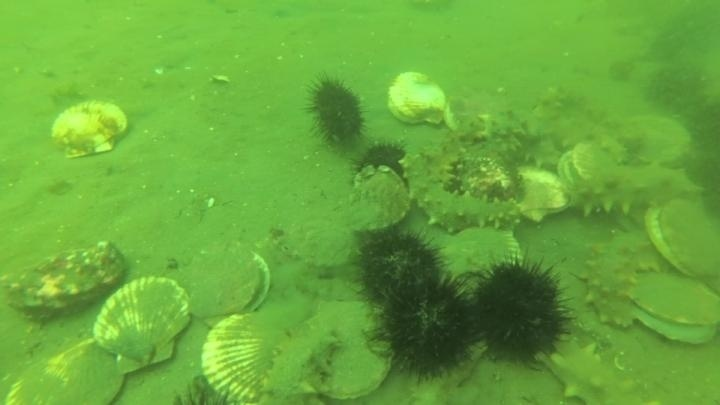echinus: (371, 271, 481, 384), (468, 254, 573, 366), (351, 224, 448, 309), (303, 73, 369, 147), (644, 62, 714, 118), (352, 138, 411, 190), (684, 150, 720, 223)
holothurian: (258, 298, 397, 403), (400, 133, 526, 238), (545, 92, 703, 174), (548, 162, 694, 224), (579, 231, 663, 332), (545, 85, 646, 158), (259, 324, 345, 402), (543, 336, 641, 404), (475, 108, 568, 173), (528, 84, 583, 151), (292, 271, 365, 305)
scallop: (89, 275, 196, 378), (7, 335, 131, 405), (196, 310, 289, 403), (174, 245, 273, 325), (621, 270, 720, 348), (644, 198, 719, 292), (431, 224, 525, 292), (47, 98, 132, 160), (609, 111, 695, 172), (343, 166, 414, 239), (315, 342, 393, 401), (276, 215, 358, 271), (385, 70, 453, 130), (511, 164, 572, 225), (552, 138, 618, 193)
